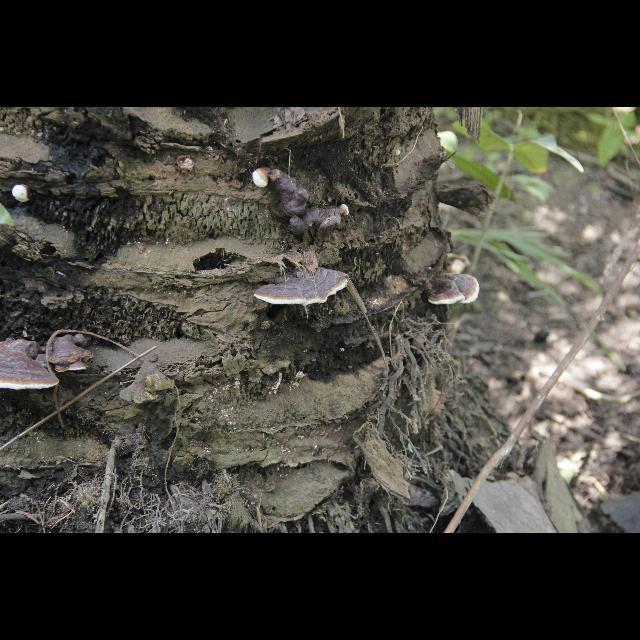ganoderma: (270, 169, 342, 239), (254, 267, 350, 308), (1, 340, 61, 392), (47, 335, 95, 374), (429, 274, 481, 306)
primordium: (252, 168, 270, 190), (13, 185, 34, 203), (338, 205, 350, 218), (296, 124, 301, 131)
